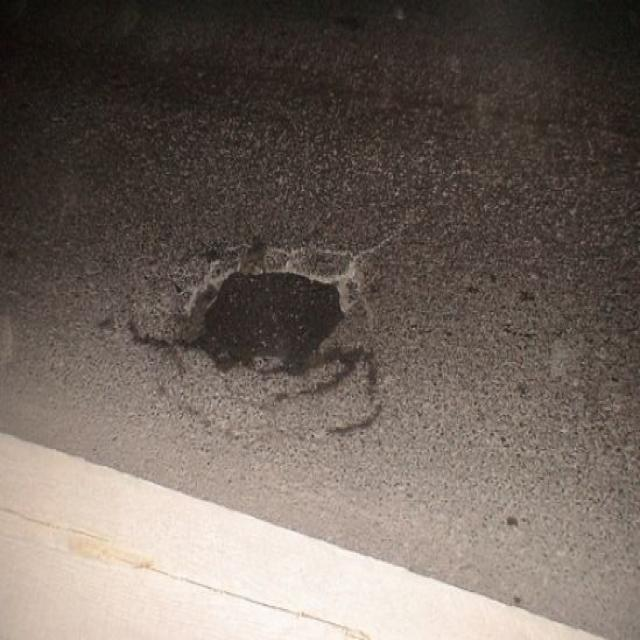Pothole: (164, 245, 353, 380)
